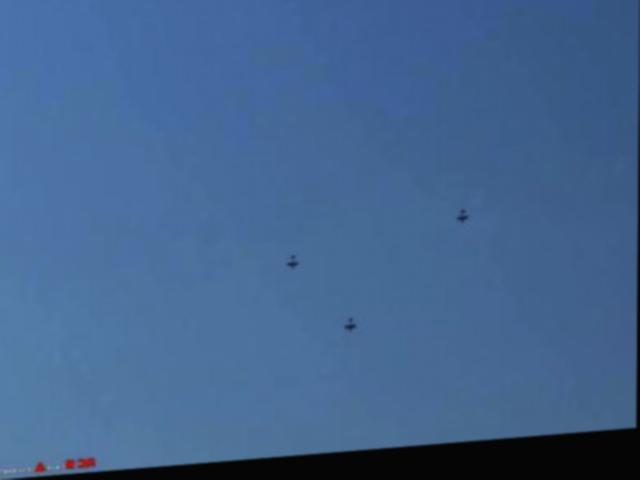uav: (453, 213, 473, 234), (285, 255, 300, 278), (343, 321, 361, 340)
